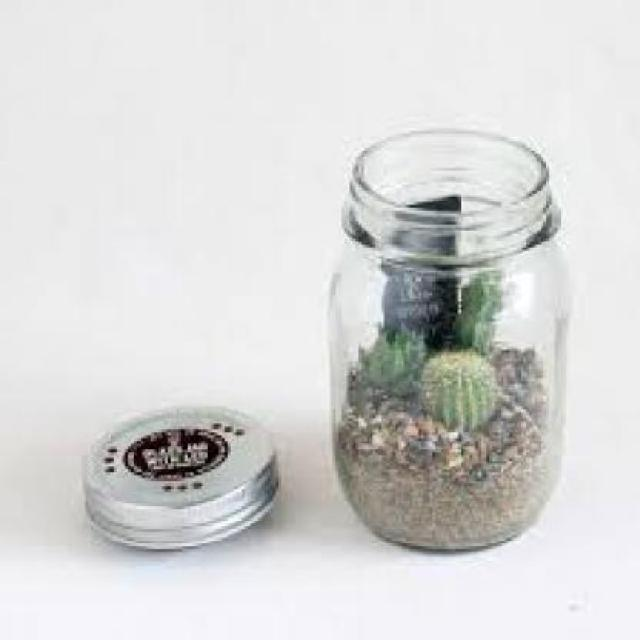kaca: (325, 125, 569, 552)
